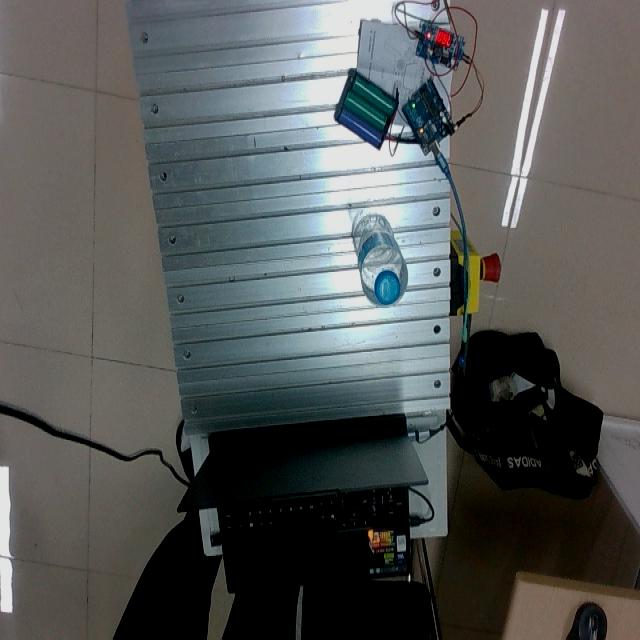lavie: (353, 213, 409, 308)
